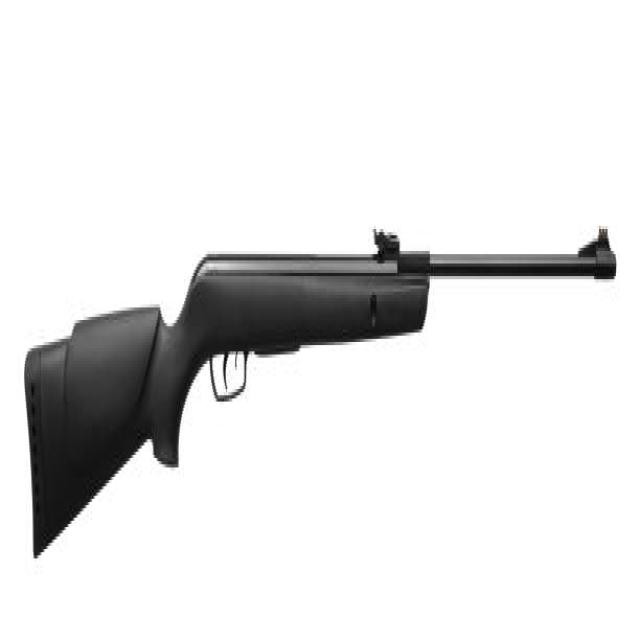rifle: (16, 191, 621, 574)
